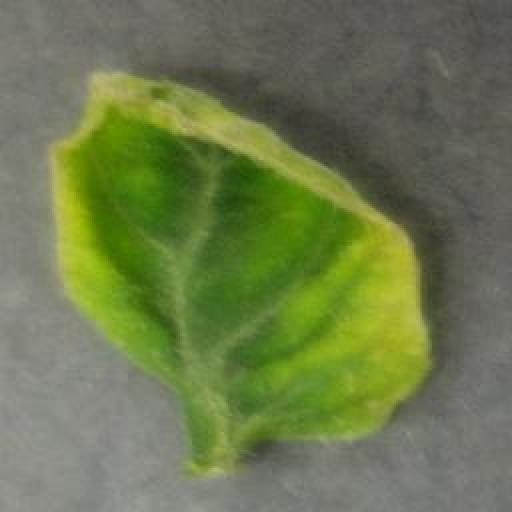disease_tomato: (48, 68, 434, 450)
